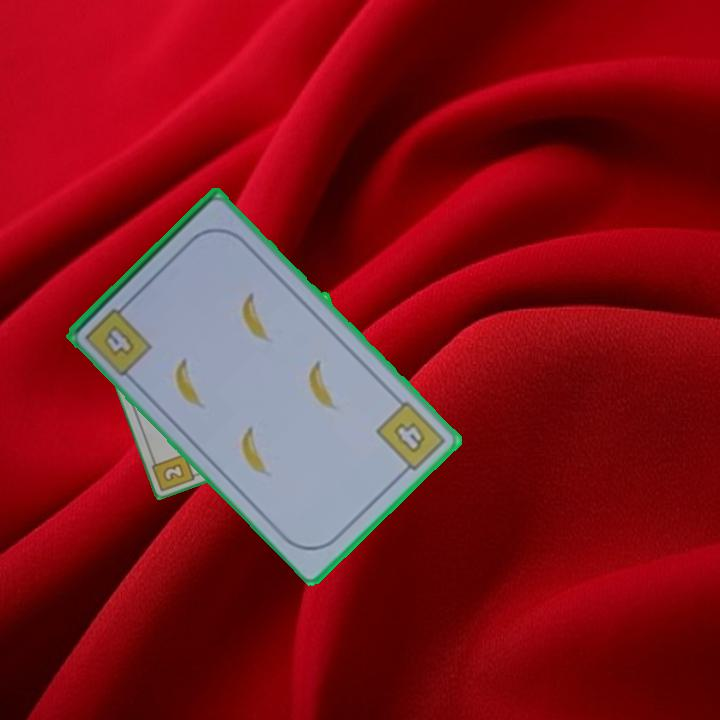2b: (159, 460, 187, 485)
4b: (372, 397, 449, 480), (81, 297, 156, 379)
